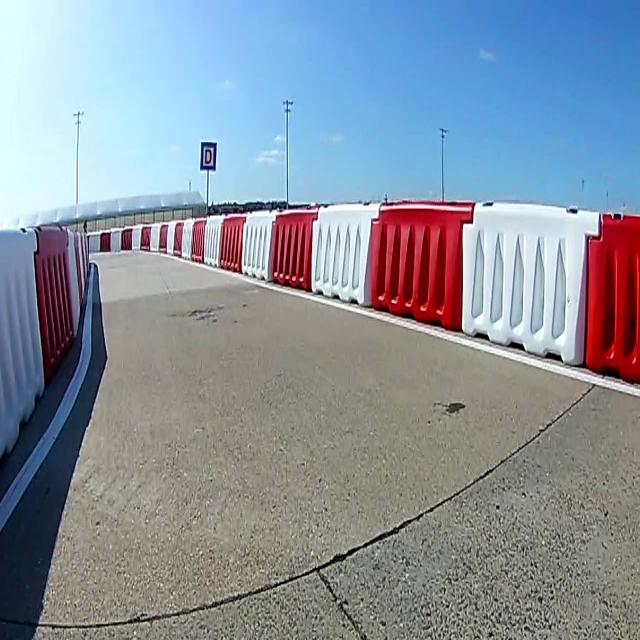durak: (199, 140, 217, 172)
